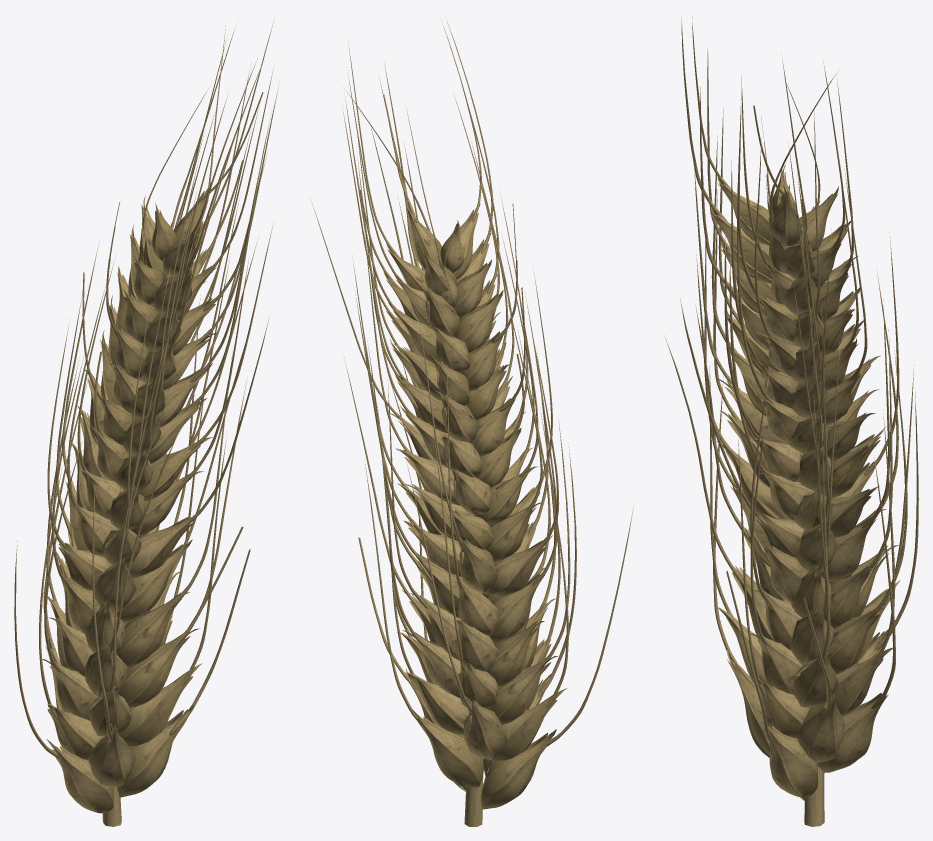
File: wheat.glb
The picture shows the model from 3 angles, left to right: view 1: azimuth 30°, elevation 25°; view 2: azimuth 150°, elevation 25°; view 3: azimuth 270°, elevation 25°; orthographic projection. The views are drawn at different scales.
Parts seen in each view (by area): view 1: Cylinder005; view 2: Cylinder005; view 3: Cylinder005.
Boxes of the visible parts, x1=… form: Cylinder005: x1=14, y1=21, x2=279, y2=826; Cylinder005: x1=311, y1=20, x2=633, y2=826; Cylinder005: x1=664, y1=16, x2=918, y2=826.
Bounding box in the file's own units: 0.7903 × 2 × 0.5407.
Materials: 1 (1 with a texture image).
